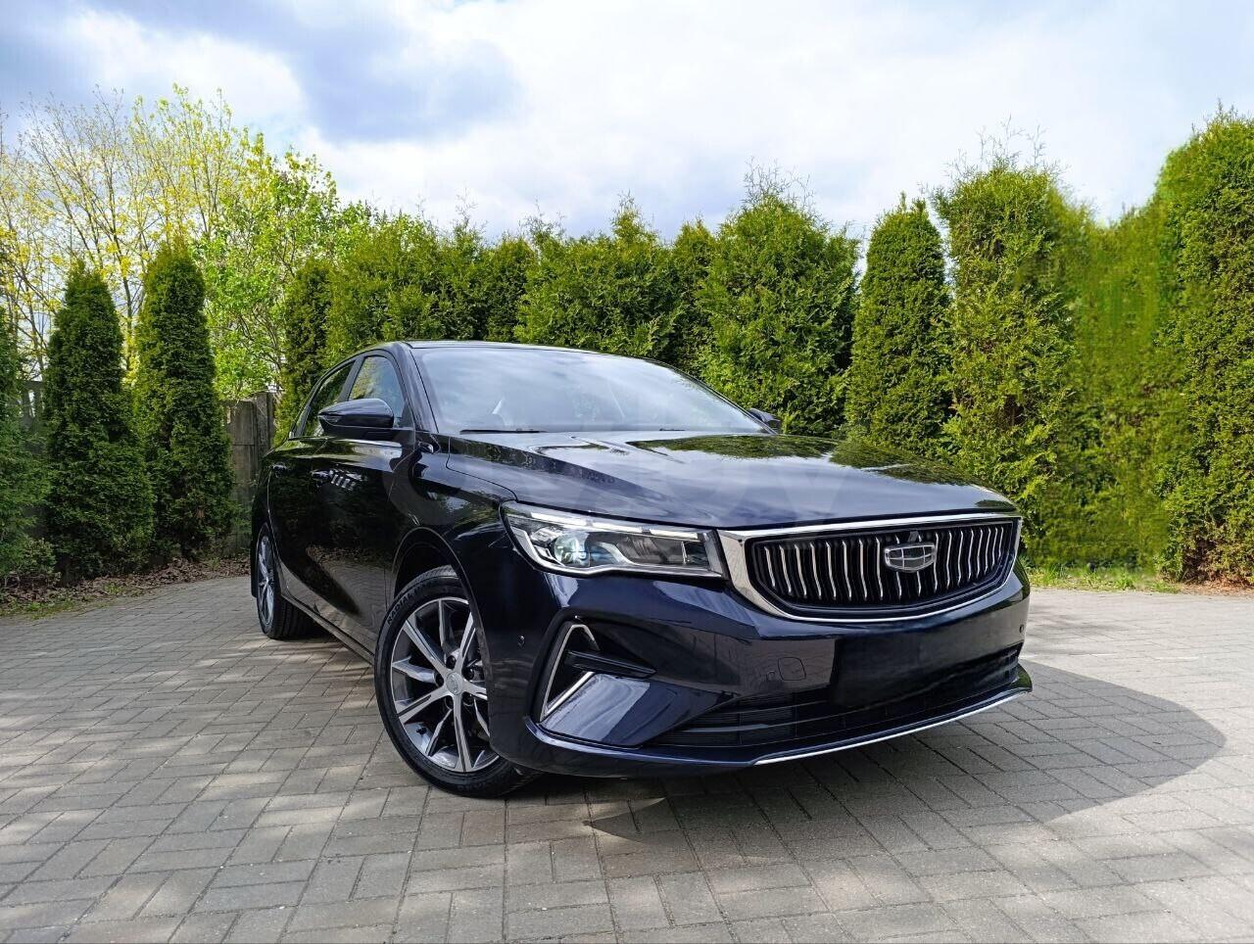Emgrand_2021: (245, 335, 1052, 805)
